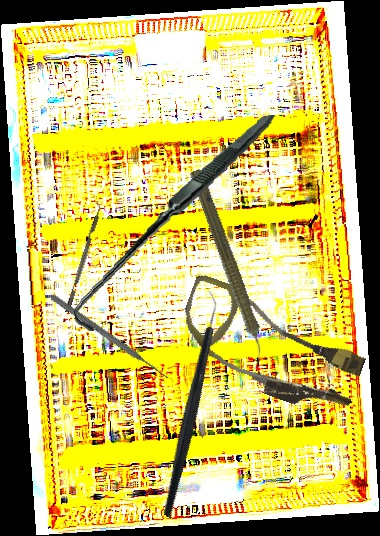Cannula: (167, 272, 374, 423)
Chopper: (88, 287, 288, 520), (59, 200, 105, 313)
Handpiece: (182, 167, 276, 371)
Hook Surgical: (58, 114, 293, 333)
Pusher: (49, 293, 171, 382)
